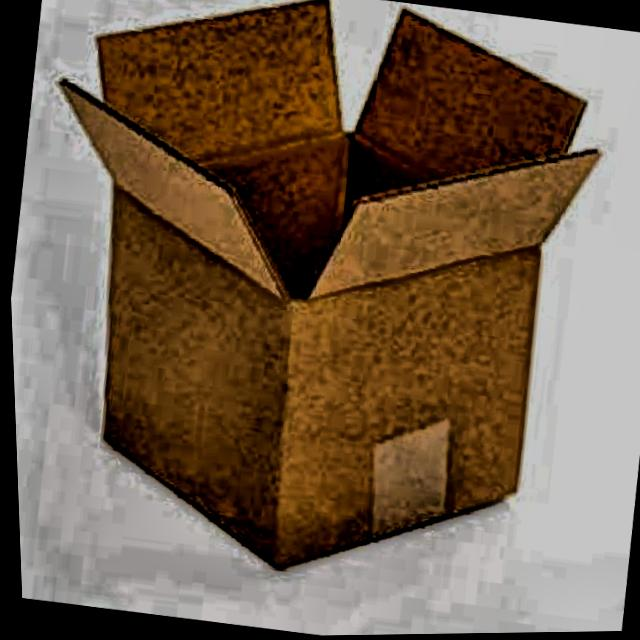Cardbox: (5, 0, 640, 608)
